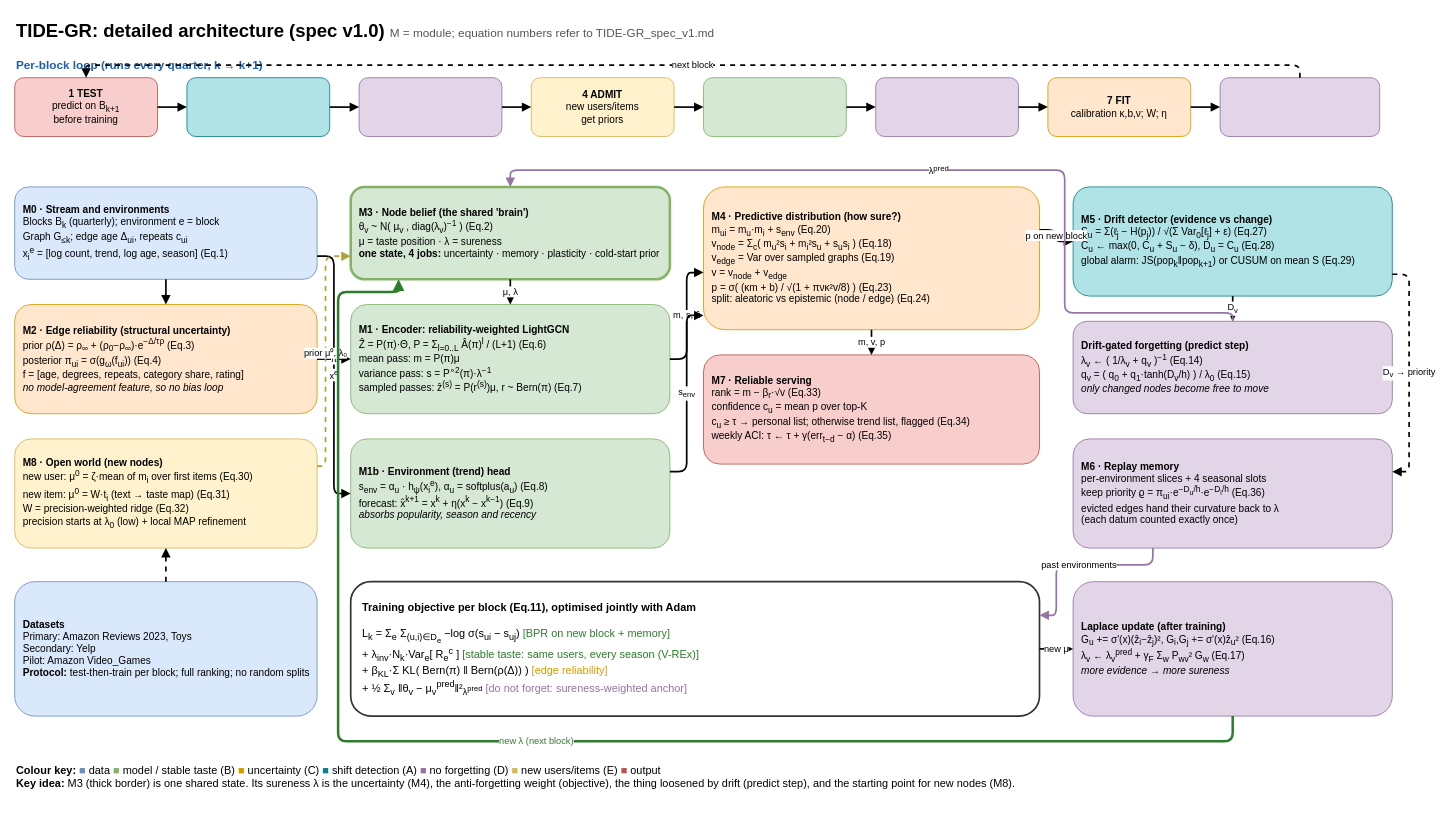
This 1450x822 diagram has some shape labels left out. Here are the shapes that lost their labels. From the top down, the centre of each, then its label:
At pixel 258 106: "2 DETECT surprise S u → CUSUM D u".
At pixel 430 106: "3 PREDICT STEP loosen drifted nodes".
At pixel 774 106: "5 UPDATE joint SGD on L k (new block + memory)".
At pixel 946 106: "6 LAPLACE sureness += evidence".
At pixel 1299 106: "8 MEMORY select / evict + curvature hand-back".
